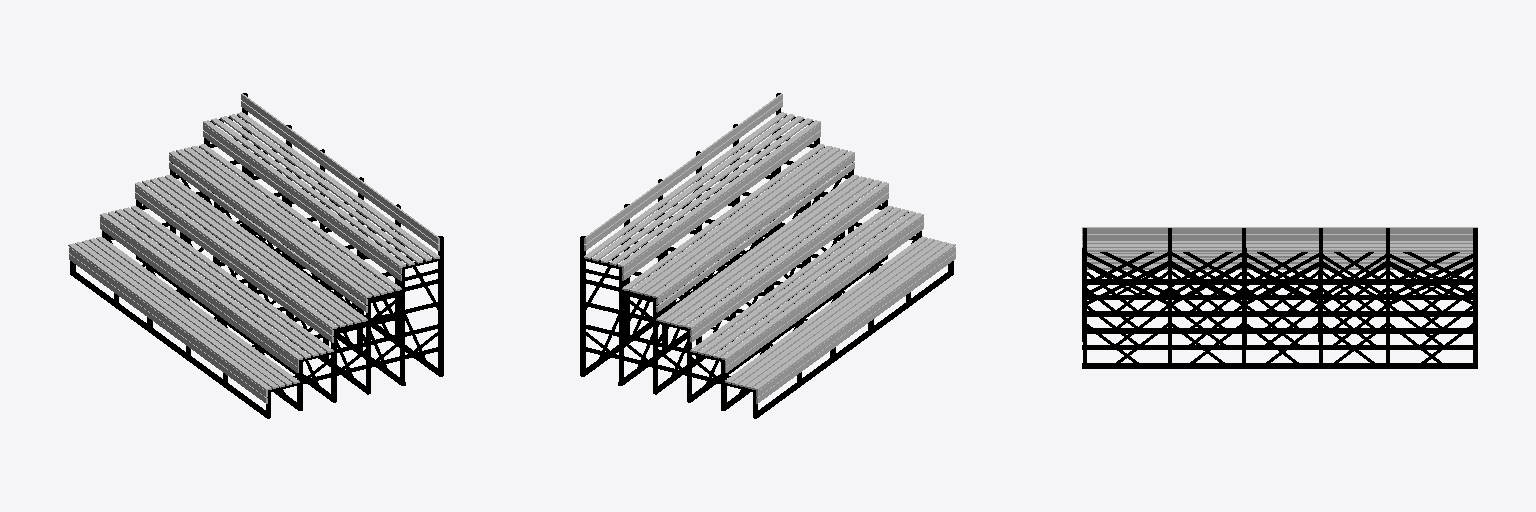
File: bancos.obj
3 renders of one model, left to right at view 1: azimuth 30°, elevation 25°; view 2: azimuth 150°, elevation 25°; view 3: azimuth 270°, elevation 25°, orthographic.
Visible parts, largest first — view 1: Box120_Dellis_American_Oak_Tar_1_0, Box112_Dellis_American_Oak_Tar_1_0, Box094_Dellis_American_Oak_Tar_1_0, Box102_Dellis_American_Oak_Tar_1_0, Box109_Dellis_American_Oak_Tar_1_0, Box116_Dellis_American_Oak_Tar_1_0, Box095_Dellis_American_Oak_Tar_1_0, Box096_Dellis_American_Oak_Tar_1_0, Box103_Dellis_American_Oak_Tar_1_0, Box089_Dellis_American_Oak_Tar_1_0, Box101_Dellis_American_Oak_Tar_1_0, Box117_Dellis_American_Oak_Tar_1_0 (+28 smaller); view 2: Box120_Dellis_American_Oak_Tar_1_0, Box112_Dellis_American_Oak_Tar_1_0, Box102_Dellis_American_Oak_Tar_1_0, Box089_Dellis_American_Oak_Tar_1_0, Box094_Dellis_American_Oak_Tar_1_0, Box101_Dellis_American_Oak_Tar_1_0, Box092_Dellis_American_Oak_Tar_1_0, Box106_Dellis_American_Oak_Tar_1_0, Box116_Dellis_American_Oak_Tar_1_0, Box095_Dellis_American_Oak_Tar_1_0, Box096_Dellis_American_Oak_Tar_1_0, Box103_Dellis_American_Oak_Tar_1_0 (+28 smaller); view 3: Box120_Dellis_American_Oak_Tar_1_0, Box121_Dellis_American_Oak_Tar_1_0, Box018_cast-steel_#2_0, Box017_cast-steel_#2_0, Box016_cast-steel_#2_0, Box015_cast-steel_#2_0, Box113_Dellis_American_Oak_Tar_1_0, Box106_Dellis_American_Oak_Tar_1_0, Box114_Dellis_American_Oak_Tar_1_0, Box014_cast-steel_#2_0, Box099_Dellis_American_Oak_Tar_1_0, Box092_Dellis_American_Oak_Tar_1_0 (+9 smaller).
Part boxes in pixels (left/top/right/bottom): Box120_Dellis_American_Oak_Tar_1_0: left=241, top=93, right=439, bottom=243; Box112_Dellis_American_Oak_Tar_1_0: left=169, top=162, right=367, bottom=312; Box094_Dellis_American_Oak_Tar_1_0: left=115, top=209, right=318, bottom=356; Box102_Dellis_American_Oak_Tar_1_0: left=142, top=180, right=345, bottom=327; Box109_Dellis_American_Oak_Tar_1_0: left=176, top=149, right=379, bottom=296; Box116_Dellis_American_Oak_Tar_1_0: left=211, top=118, right=414, bottom=265; Box095_Dellis_American_Oak_Tar_1_0: left=108, top=211, right=310, bottom=358; Box096_Dellis_American_Oak_Tar_1_0: left=100, top=213, right=302, bottom=360; Box103_Dellis_American_Oak_Tar_1_0: left=135, top=182, right=337, bottom=329; Box089_Dellis_American_Oak_Tar_1_0: left=68, top=243, right=271, bottom=390; Box101_Dellis_American_Oak_Tar_1_0: left=150, top=178, right=352, bottom=325; Box117_Dellis_American_Oak_Tar_1_0: left=203, top=120, right=405, bottom=267; Box120_Dellis_American_Oak_Tar_1_0: left=584, top=93, right=782, bottom=243; Box112_Dellis_American_Oak_Tar_1_0: left=656, top=162, right=854, bottom=312; Box102_Dellis_American_Oak_Tar_1_0: left=678, top=180, right=881, bottom=326; Box089_Dellis_American_Oak_Tar_1_0: left=752, top=243, right=955, bottom=390; Box094_Dellis_American_Oak_Tar_1_0: left=705, top=209, right=908, bottom=356; Box101_Dellis_American_Oak_Tar_1_0: left=671, top=178, right=873, bottom=325; Box092_Dellis_American_Oak_Tar_1_0: left=690, top=206, right=893, bottom=352; Box106_Dellis_American_Oak_Tar_1_0: left=622, top=144, right=824, bottom=290; Box116_Dellis_American_Oak_Tar_1_0: left=609, top=118, right=812, bottom=265; Box095_Dellis_American_Oak_Tar_1_0: left=713, top=211, right=915, bottom=358; Box096_Dellis_American_Oak_Tar_1_0: left=721, top=213, right=923, bottom=360; Box103_Dellis_American_Oak_Tar_1_0: left=686, top=182, right=888, bottom=328; Box120_Dellis_American_Oak_Tar_1_0: left=1082, top=227, right=1477, bottom=233; Box121_Dellis_American_Oak_Tar_1_0: left=1082, top=234, right=1472, bottom=240; Box018_cast-steel_#2_0: left=1082, top=363, right=1477, bottom=368; Box017_cast-steel_#2_0: left=1082, top=345, right=1472, bottom=349; Box016_cast-steel_#2_0: left=1087, top=328, right=1472, bottom=333; Box015_cast-steel_#2_0: left=1087, top=311, right=1472, bottom=316; Box113_Dellis_American_Oak_Tar_1_0: left=1082, top=244, right=1472, bottom=247; Box106_Dellis_American_Oak_Tar_1_0: left=1087, top=248, right=1472, bottom=251; Box114_Dellis_American_Oak_Tar_1_0: left=1082, top=241, right=1472, bottom=243; Box014_cast-steel_#2_0: left=1087, top=295, right=1472, bottom=299; Box099_Dellis_American_Oak_Tar_1_0: left=1087, top=254, right=1470, bottom=257; Box092_Dellis_American_Oak_Tar_1_0: left=1087, top=260, right=1472, bottom=263.
Size of the model in its own units: 37.09 by 27.75 by 71.48.